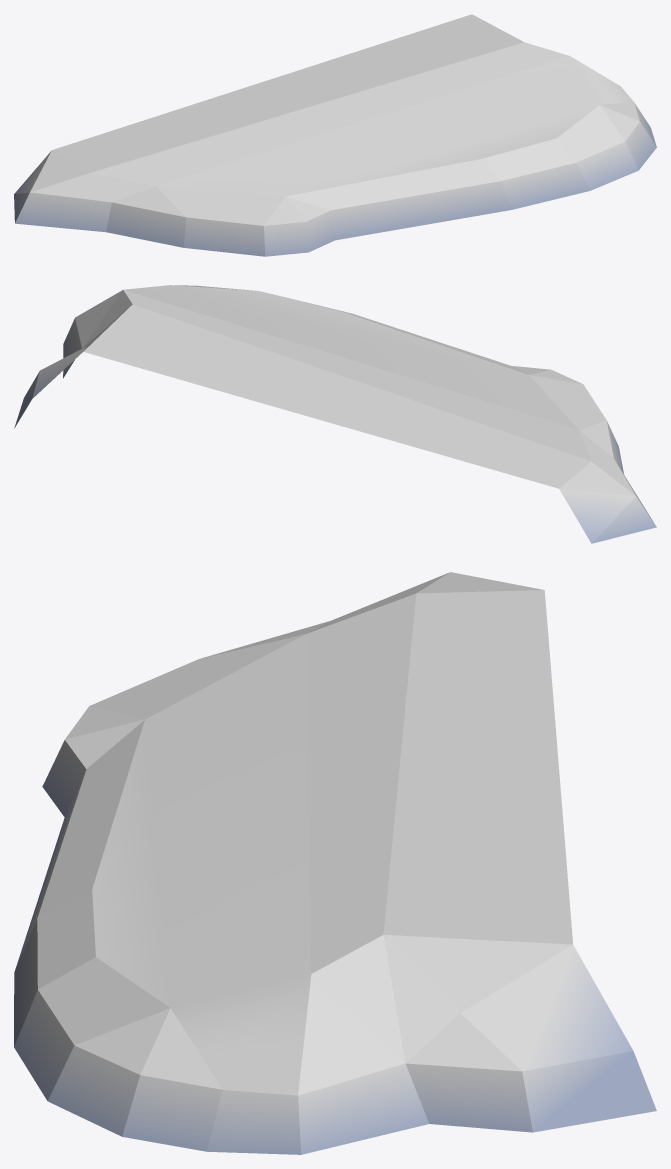
File: yetiStoneCarvingSnowGround.glb
3 views of the same model, one above another, from view 1: azimuth 30°, elevation 25°; view 2: azimuth 150°, elevation 25°; view 3: azimuth 270°, elevation 25° (orthographic). The views are drawn at different scales.
Visible parts, largest first — view 1: yetiStoneCarvingSnowGround; view 2: yetiStoneCarvingSnowGround; view 3: yetiStoneCarvingSnowGround.
Boxes of the visible parts, x1,y1,x2,y2 form: yetiStoneCarvingSnowGround: (14,14,656,256); yetiStoneCarvingSnowGround: (14,285,656,543); yetiStoneCarvingSnowGround: (14,572,656,1154).
Bounding box in the file's own units: 4.96 × 0.5896 × 2.45.
